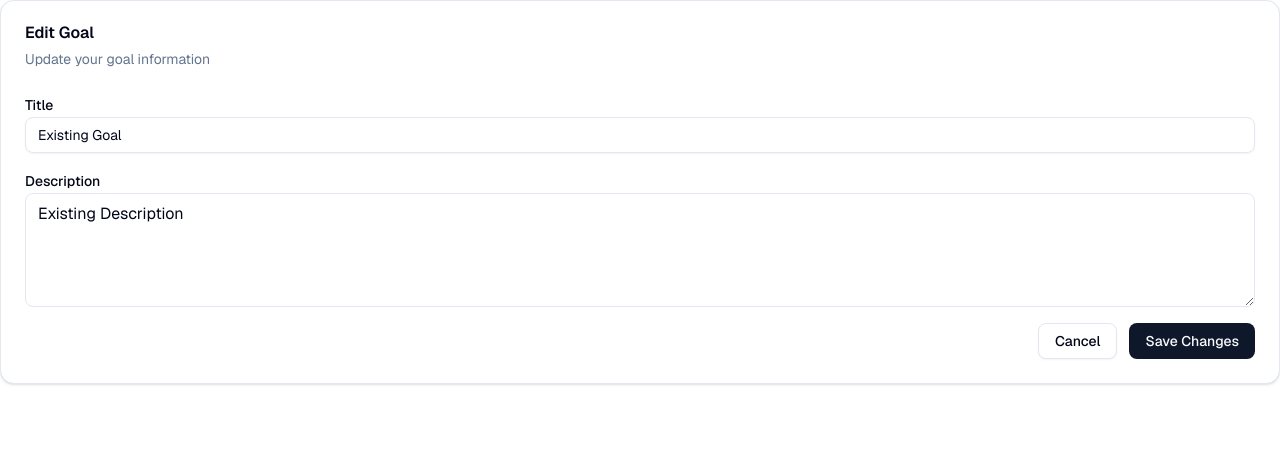
Test: GoalForm › Edit Mode › displays error message on update failure
The image size is (1280, 462).
Click the button "Save Changes" at point(1192, 341), box [1129, 323, 1255, 359]
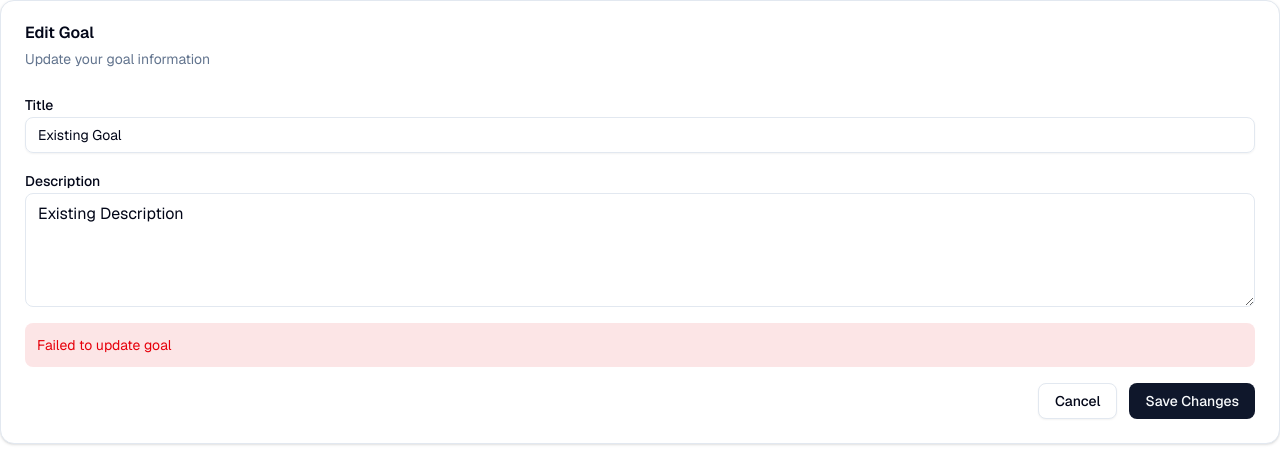
Now the text "Failed to update goal" is shown, box [25, 323, 1255, 367]
